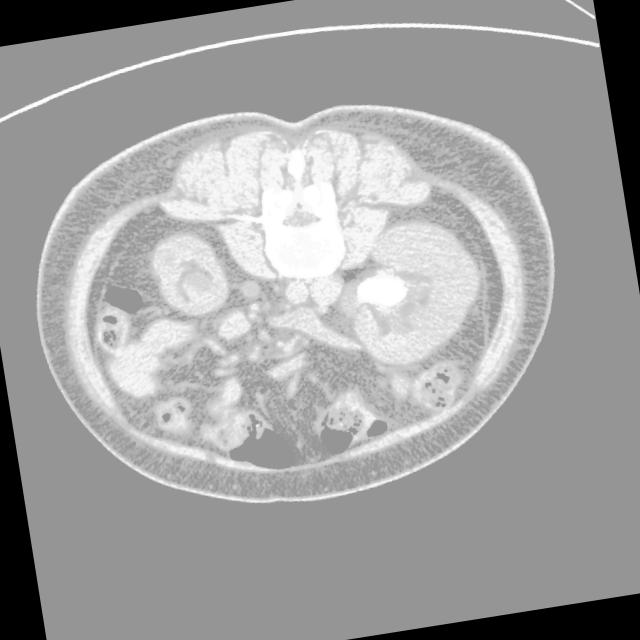STONE: (0, 192, 522, 566)
